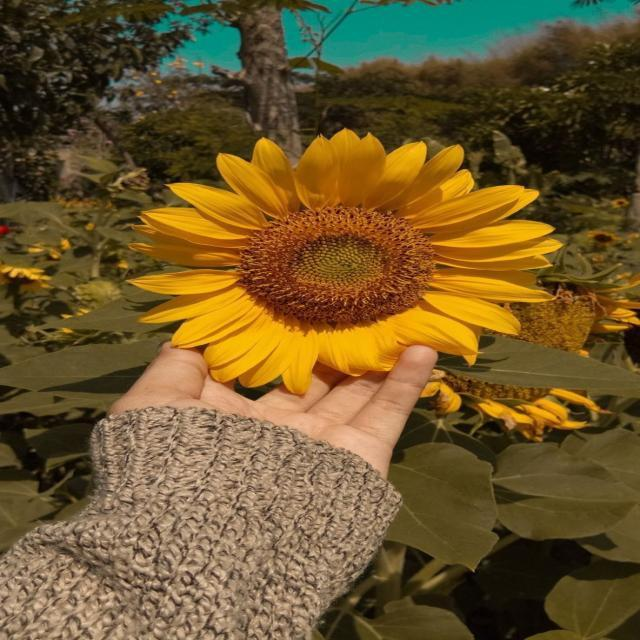sunflower: (124, 126, 564, 396), (418, 278, 640, 442), (0, 267, 53, 292), (27, 237, 70, 260), (60, 308, 96, 333), (586, 230, 618, 248), (100, 254, 128, 269), (611, 198, 630, 208)
